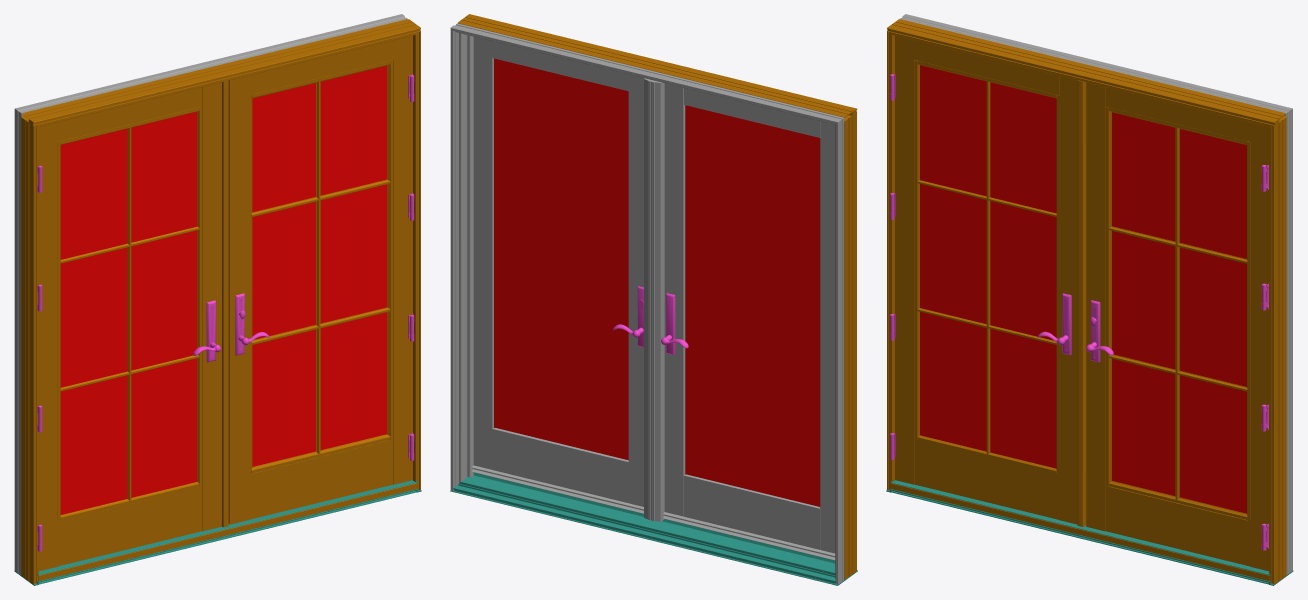
The model's file is 02_D_FrenchwoodInswingPatio.gltf.
3 renders of one model, left to right at view 1: azimuth 30°, elevation 25°; view 2: azimuth 150°, elevation 25°; view 3: azimuth 330°, elevation 25°, orthographic.
Visible parts, largest first — view 1: 02_D_Glass, 02_D_Interior, 02_D_Exterior, 02_D_Sill, 02_D_Hardware; view 2: 02_D_Glass, 02_D_Exterior, 02_D_Interior, 02_D_Sill, 02_D_Hardware; view 3: 02_D_Glass, 02_D_Interior, 02_D_Exterior, 02_D_Sill, 02_D_Hardware.
Part boxes in pixels (left/top/right/bottom): 02_D_Glass: left=60, top=65, right=387, bottom=514; 02_D_Interior: left=21, top=19, right=420, bottom=584; 02_D_Exterior: left=14, top=14, right=407, bottom=574; 02_D_Sill: left=14, top=480, right=421, bottom=585; 02_D_Hardware: left=37, top=74, right=414, bottom=551; 02_D_Glass: left=494, top=58, right=820, bottom=506; 02_D_Exterior: left=450, top=23, right=844, bottom=584; 02_D_Interior: left=458, top=14, right=857, bottom=579; 02_D_Sill: left=450, top=472, right=857, bottom=585; 02_D_Hardware: left=613, top=286, right=688, bottom=354; 02_D_Glass: left=920, top=65, right=1246, bottom=513; 02_D_Interior: left=887, top=19, right=1286, bottom=584; 02_D_Exterior: left=900, top=14, right=1292, bottom=574; 02_D_Sill: left=886, top=480, right=1293, bottom=585; 02_D_Hardware: left=890, top=74, right=1268, bottom=550.
Bounding box in the file's own units: 184 × 210 × 21.34.
